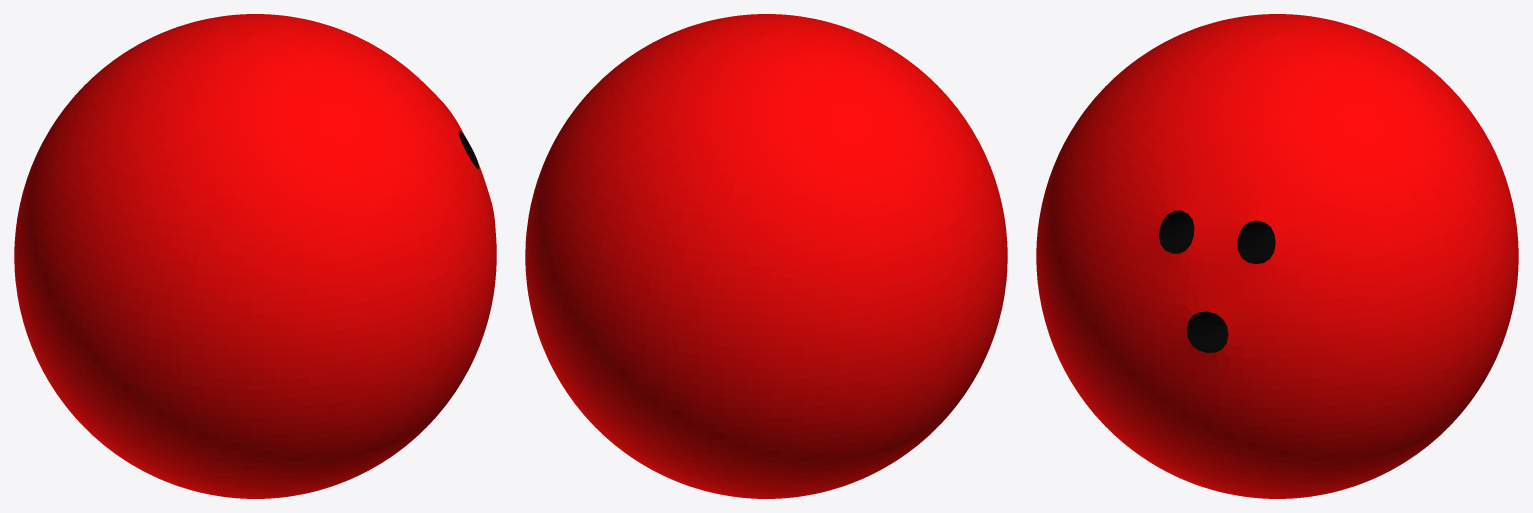
The model's file is ball.fbx.
The picture shows the model from 3 angles, left to right: view 1: azimuth 30°, elevation 25°; view 2: azimuth 150°, elevation 25°; view 3: azimuth 270°, elevation 25°; orthographic projection.
Parts seen in each view (by area): view 1: 球; view 2: 球; view 3: 球.
Part boxes in pixels (x1,y1,x2,y2): 球: (14, 14, 496, 498); 球: (525, 14, 1007, 498); 球: (1036, 14, 1518, 498).
Bounding box in the file's own units: 2152 × 2175 × 2152.
